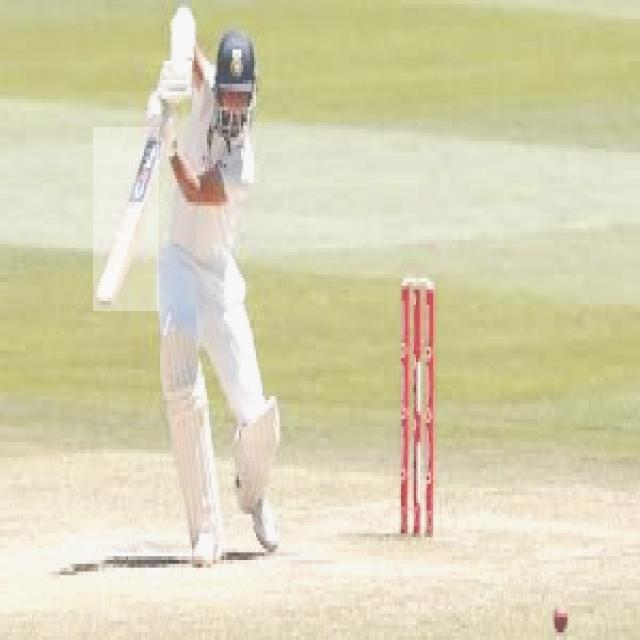bat: (96, 128, 162, 313)
toe: (94, 294, 118, 307)
